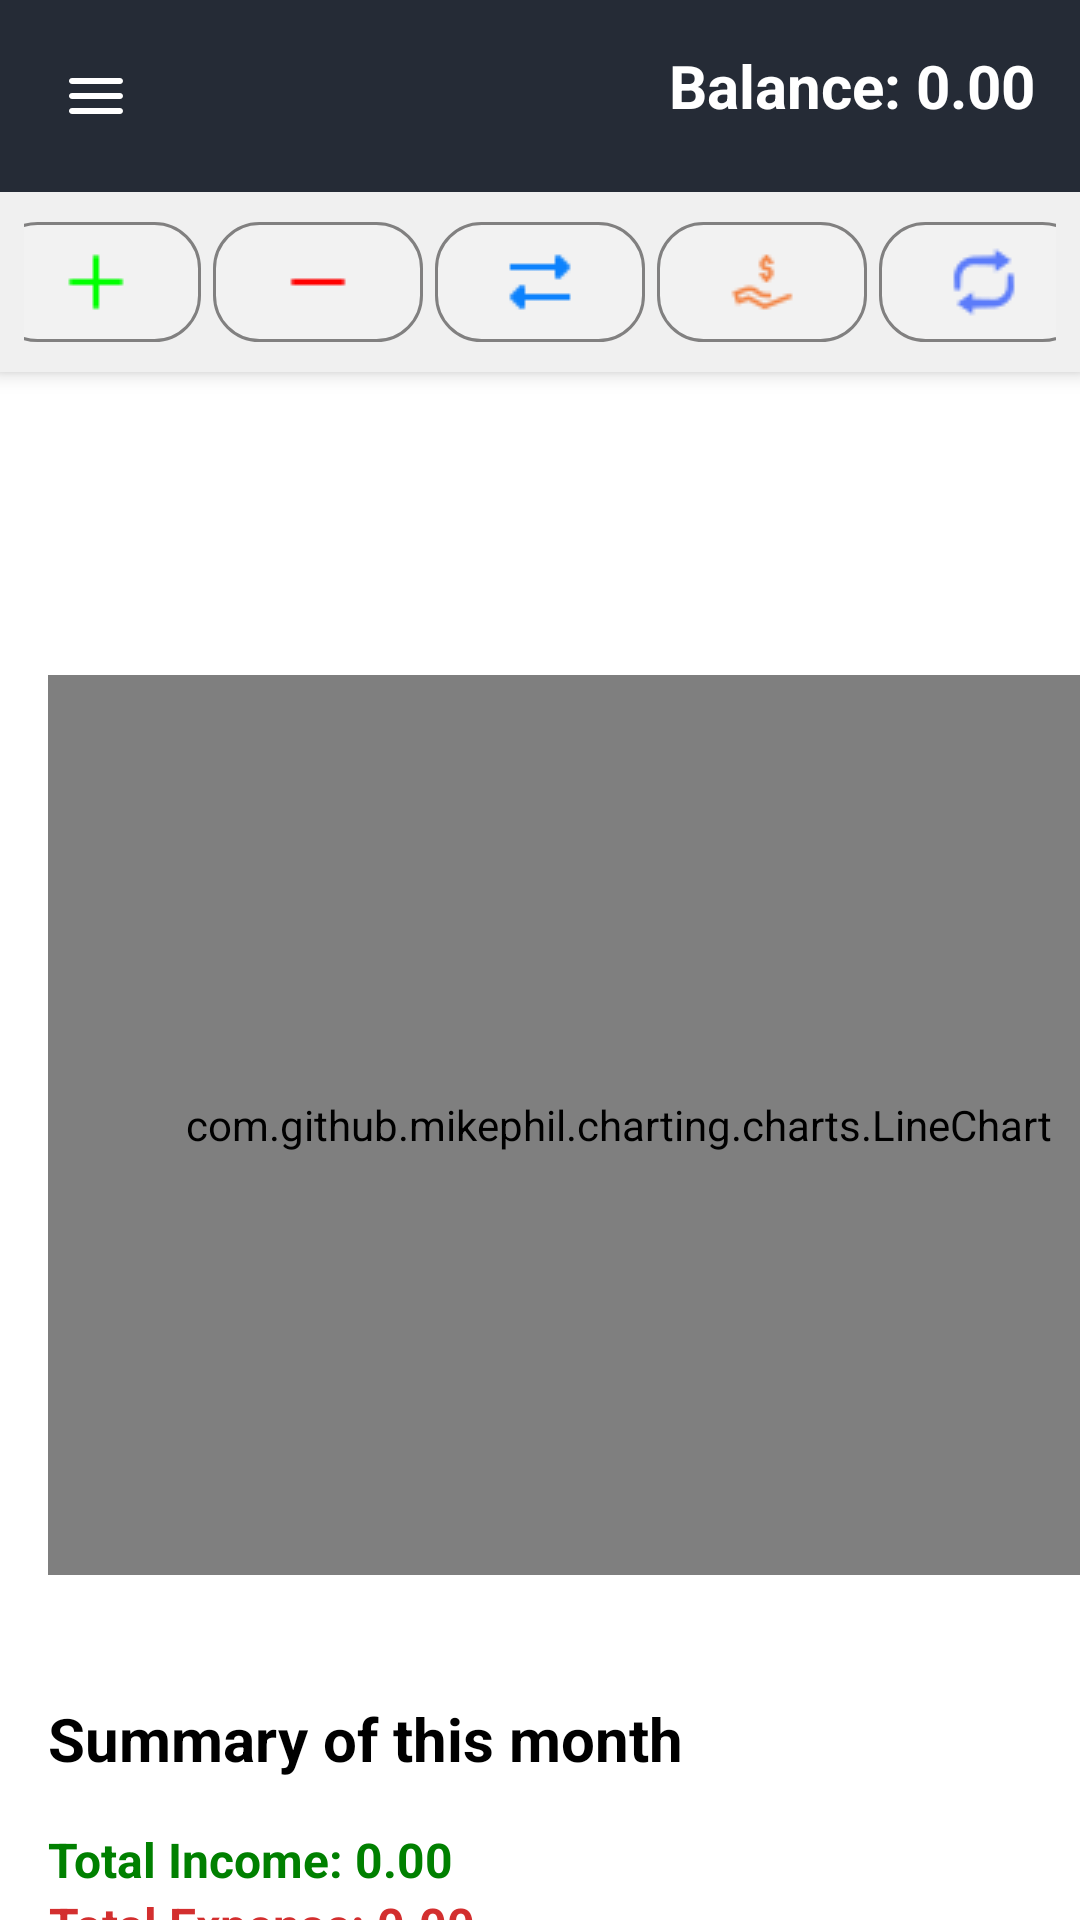

Named icons in this screenshot (1080×1920) and their centers, point (x, y):
Add: point (112, 282)
Drawer Menu: point (96, 96)
loan: point (762, 282)
refresh: point (967, 282)
remove: point (318, 282)
transfer: point (540, 282)
